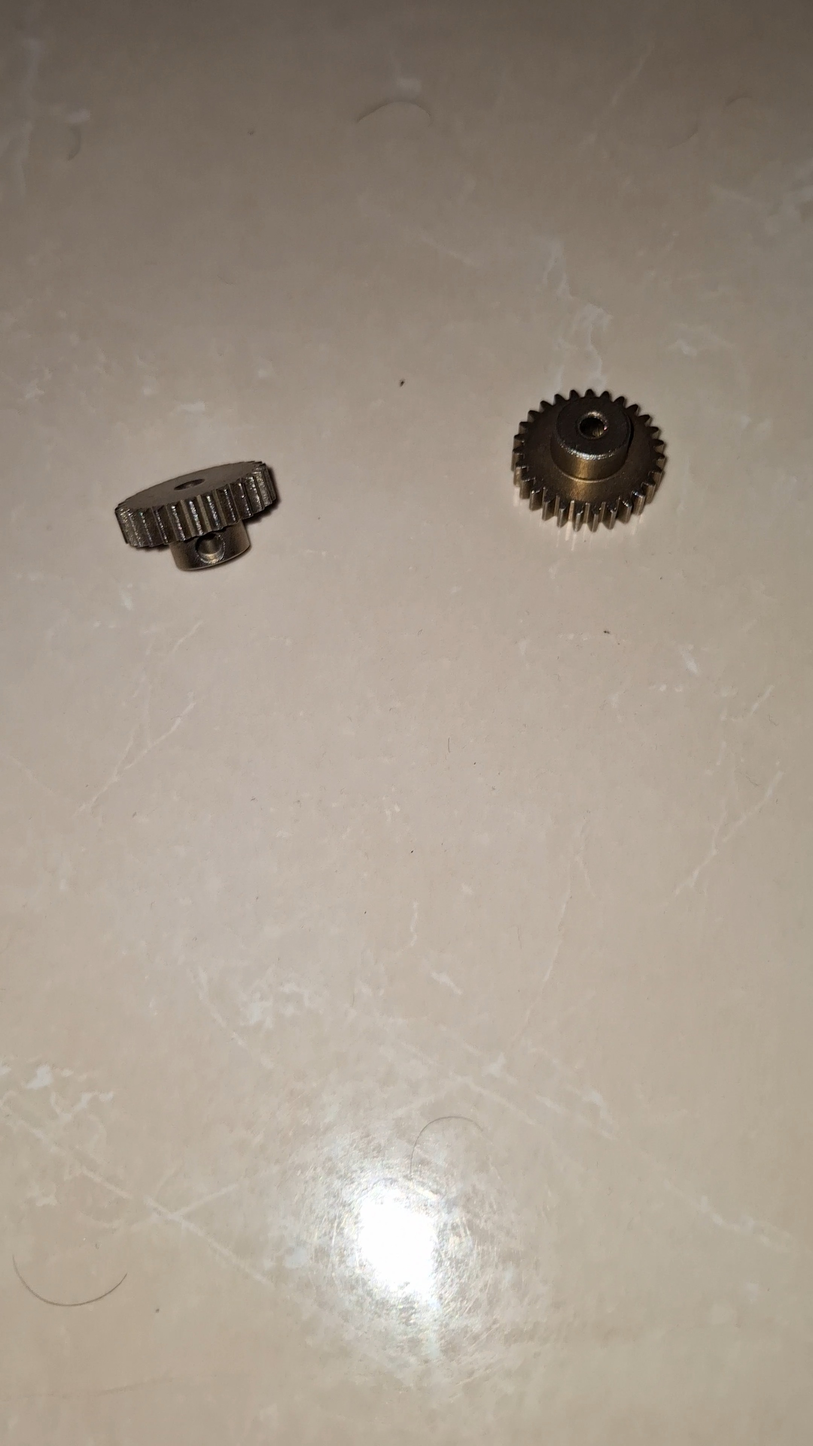spur gear: (512, 390, 665, 530), (116, 461, 276, 570)
